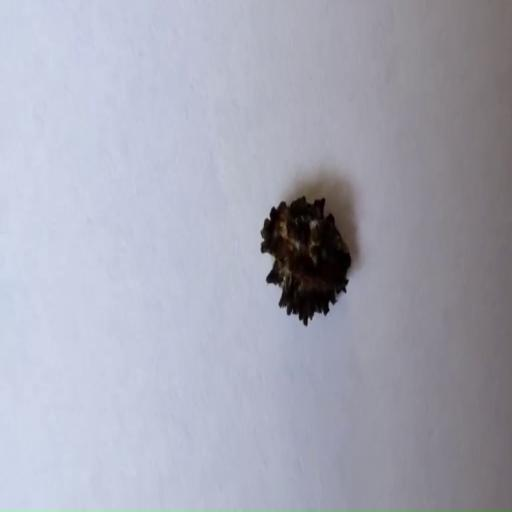papaya_seed: (248, 168, 364, 356)
